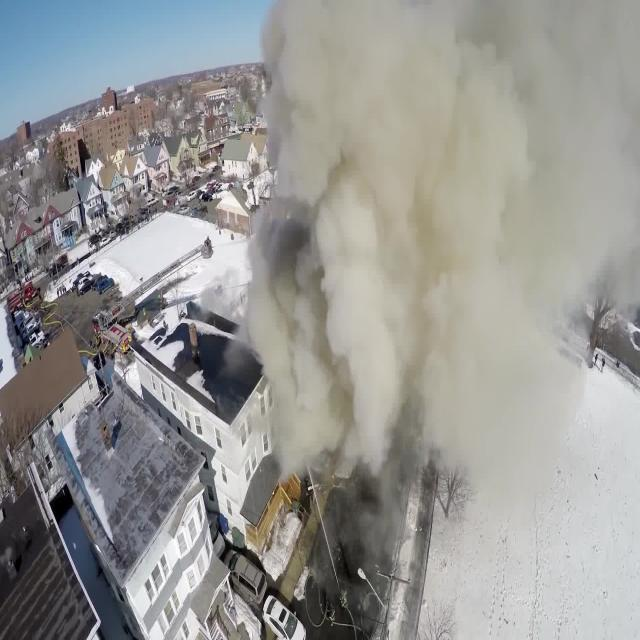smoke: (282, 25, 560, 401)
